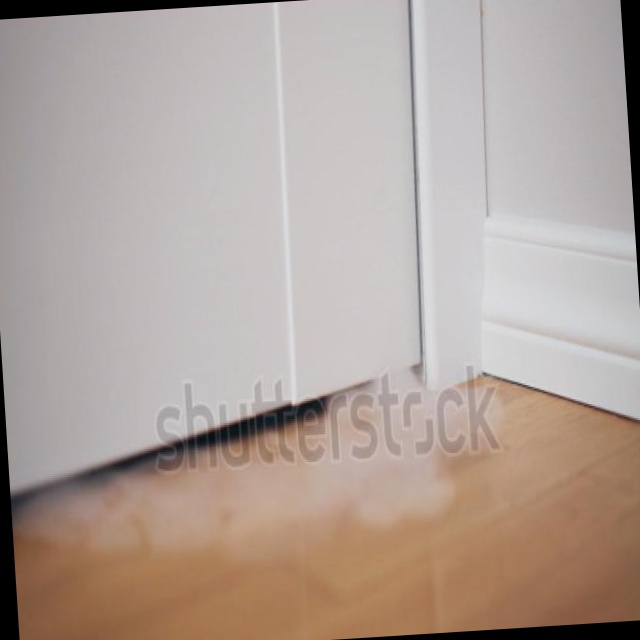smoke: (12, 355, 507, 560)
